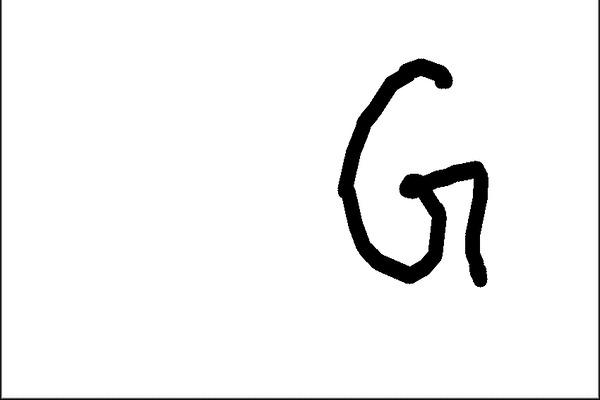G: (332, 54, 495, 292)
